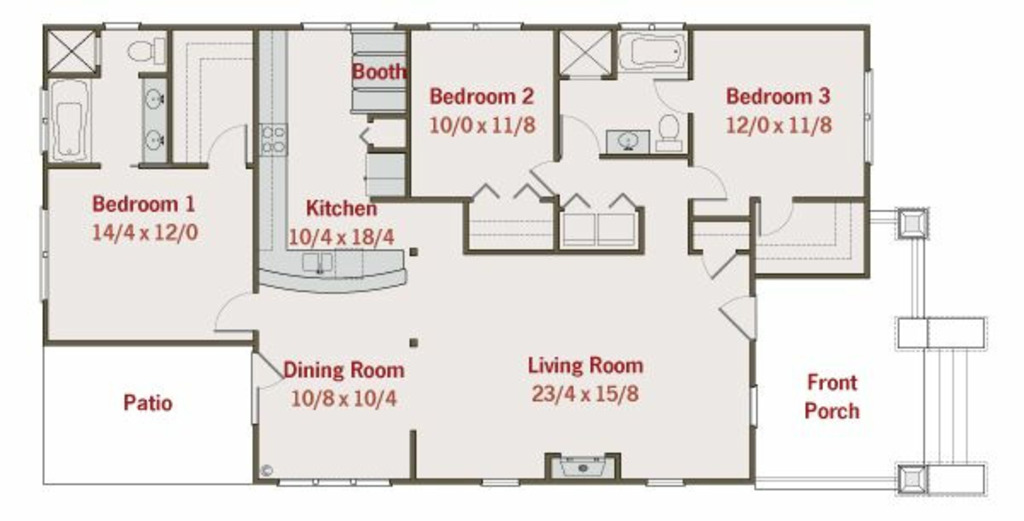door: (199, 116, 249, 167), (556, 112, 601, 161), (718, 296, 766, 341), (651, 77, 702, 115), (215, 291, 257, 335), (254, 351, 293, 393), (760, 199, 798, 238), (689, 166, 733, 199), (702, 249, 741, 283)
large_sink: (112, 32, 165, 69), (651, 111, 688, 160)
small_sink: (141, 79, 166, 163), (607, 123, 648, 160)
small_sofa: (597, 211, 634, 248), (560, 212, 599, 246)
tub: (620, 25, 692, 79), (52, 81, 91, 162)
twin_sink: (300, 250, 333, 275)
window: (866, 69, 875, 159), (40, 212, 48, 298), (103, 16, 144, 31), (303, 19, 349, 31), (352, 22, 396, 30)
windows: (282, 476, 394, 488), (429, 18, 527, 30)
